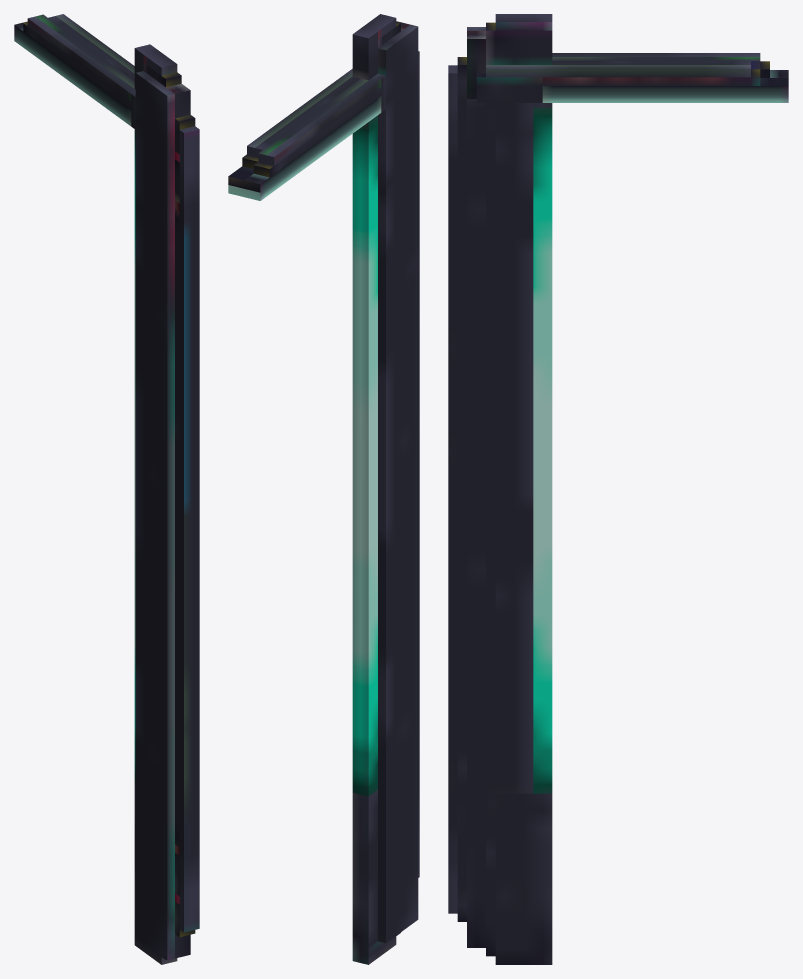
File: LightPole_A_00.fbx
3 renders of one model, left to right at view 1: azimuth 30°, elevation 25°; view 2: azimuth 150°, elevation 25°; view 3: azimuth 270°, elevation 25°, orthographic. The views are drawn at different scales.
Parts seen in each view (by area): view 1: LightPole_A_00; view 2: LightPole_A_00; view 3: LightPole_A_00.
Part boxes in pixels (x1,y1,x2,y2): LightPole_A_00: (14,14,199,964); LightPole_A_00: (228,14,419,964); LightPole_A_00: (448,14,788,964).
Size of the model in its own units: 20 by 550 by 180.
